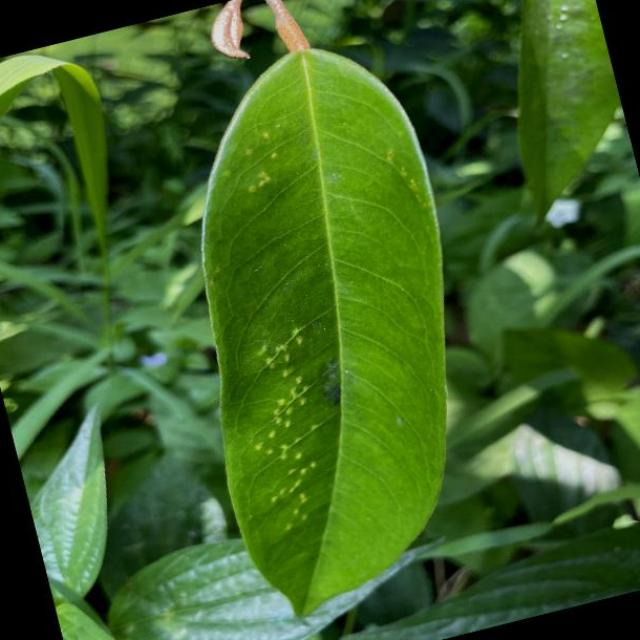Leaf Spot: (116, 5, 541, 638)
